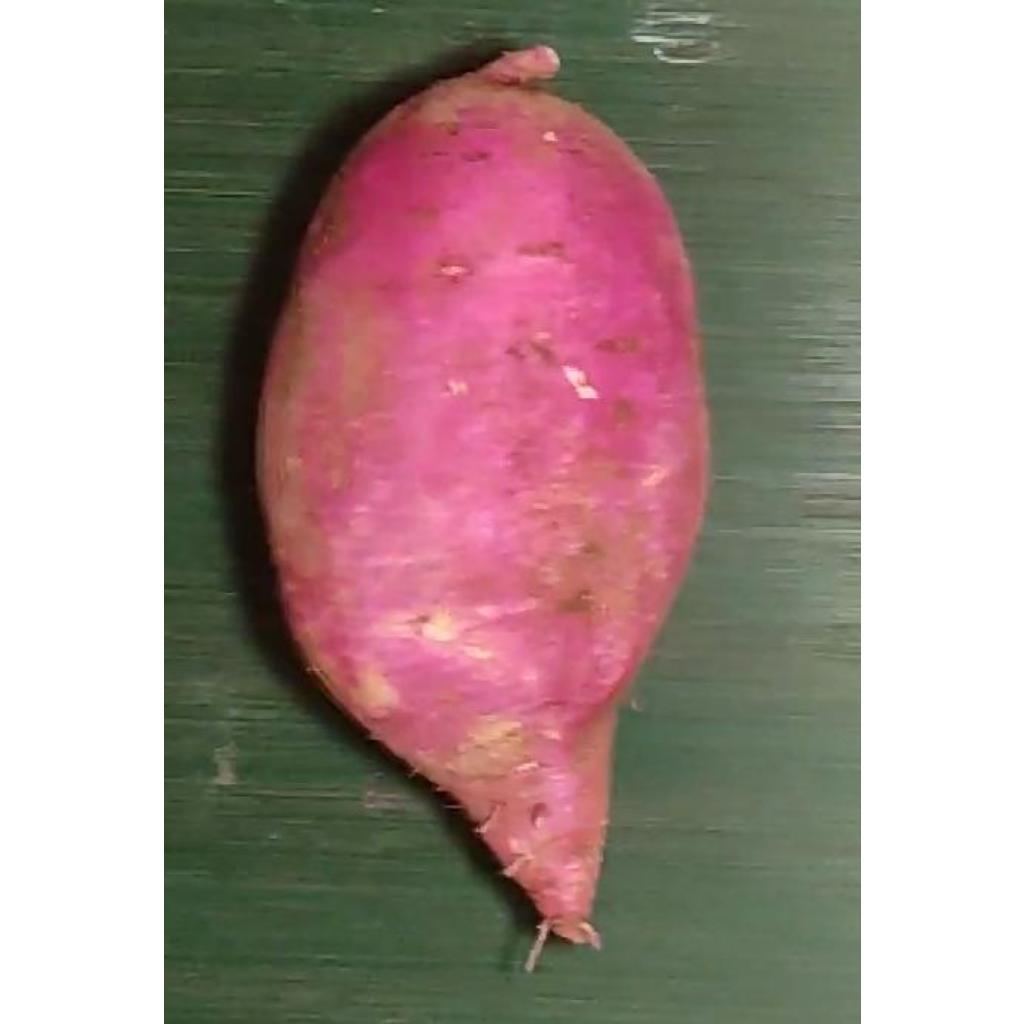Sweet Potato: (253, 49, 709, 970)
